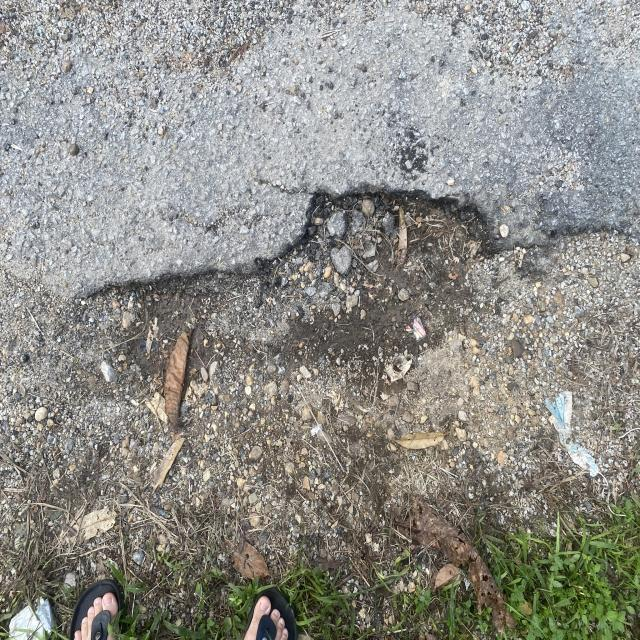pothole: (35, 153, 537, 375)
